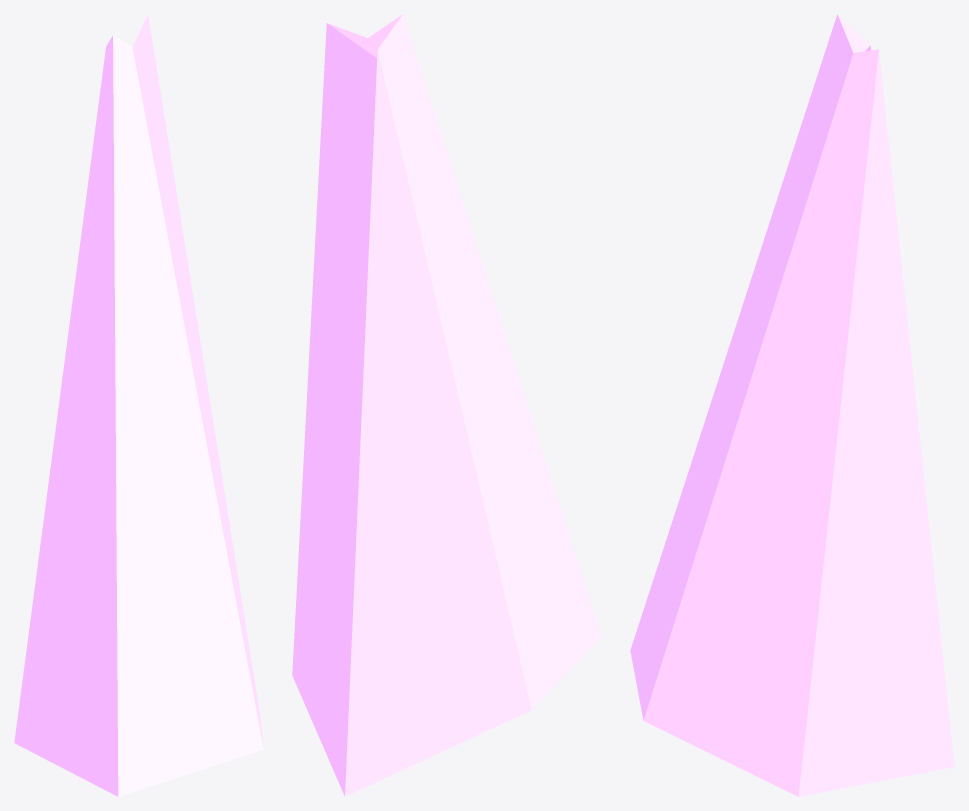
The model's file is TC_ENV_AlienShard_Small_V1.gltf.
3 renders of one model, left to right at view 1: azimuth 30°, elevation 25°; view 2: azimuth 150°, elevation 25°; view 3: azimuth 270°, elevation 25°, orthographic. The views are drawn at different scales.
Visible parts, largest first — view 1: TC_ENV_AlienShard_Small_V1; view 2: TC_ENV_AlienShard_Small_V1; view 3: TC_ENV_AlienShard_Small_V1.
Part boxes in pixels (<box>): TC_ENV_AlienShard_Small_V1: <box>14,14,263,796</box>; TC_ENV_AlienShard_Small_V1: <box>292,14,601,796</box>; TC_ENV_AlienShard_Small_V1: <box>630,14,954,796</box>.
Size of the model in its own units: 0.3787 by 1.1 by 0.4284.
